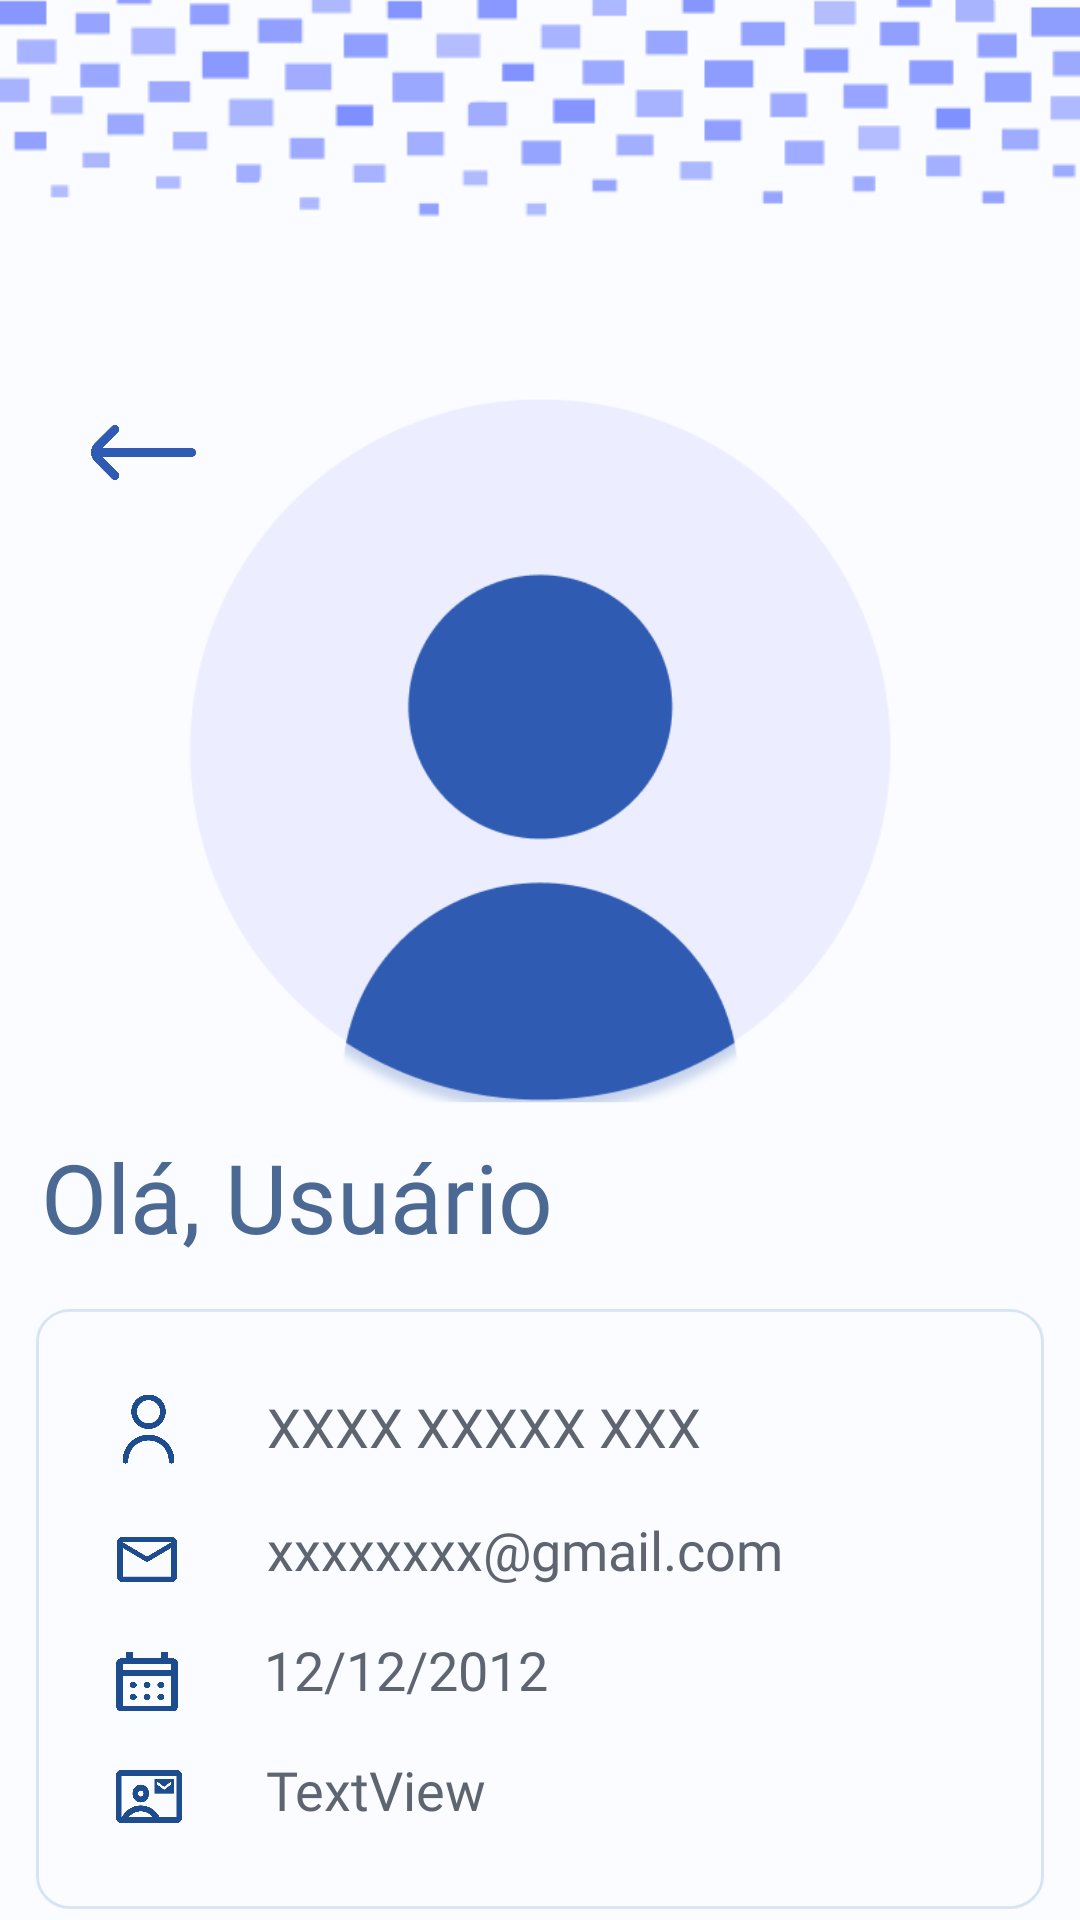

Where to tap for icons on this 1080x1920 app screen, as point (x, y):
calendario: point (147, 1681)
cracha: point (149, 1796)
email: point (147, 1559)
seta: point (143, 452)
